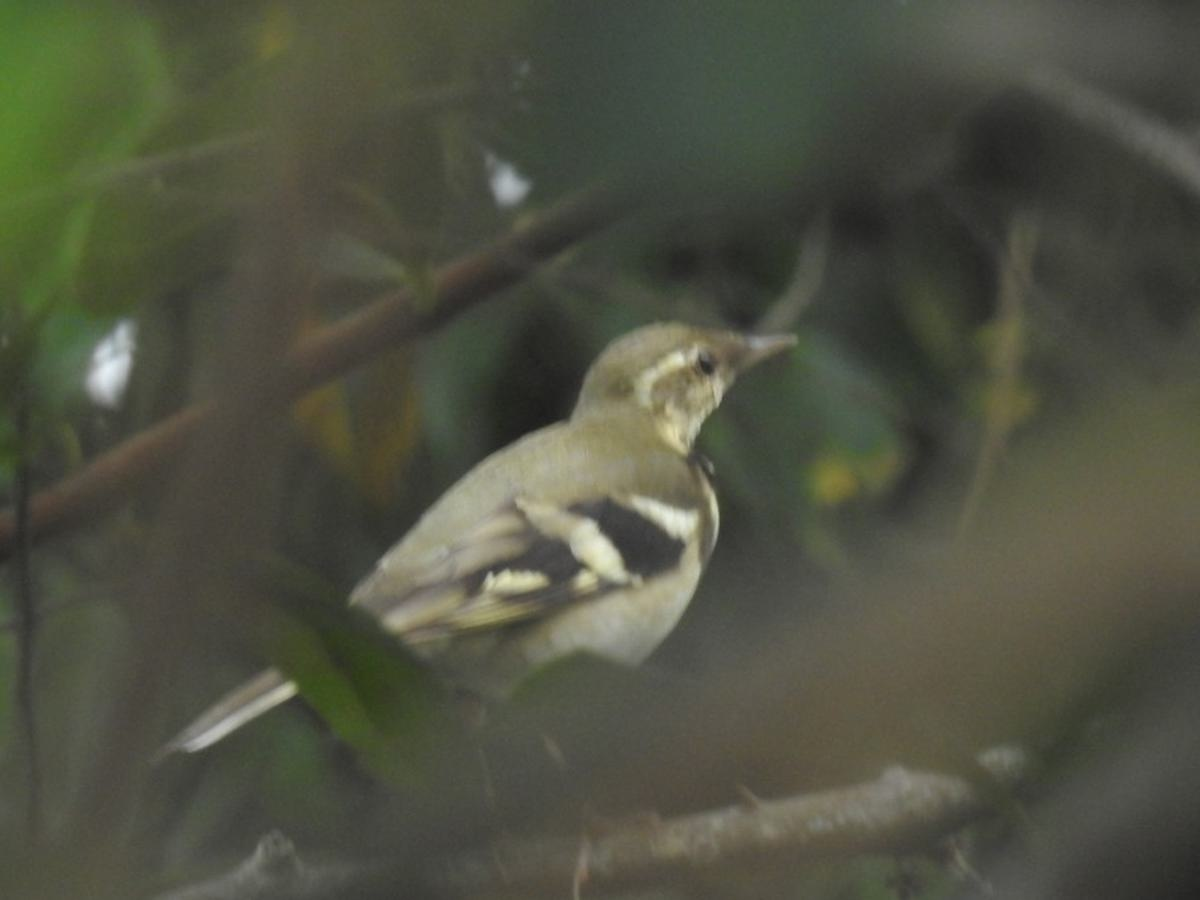wagtail: (259, 298, 791, 785)
